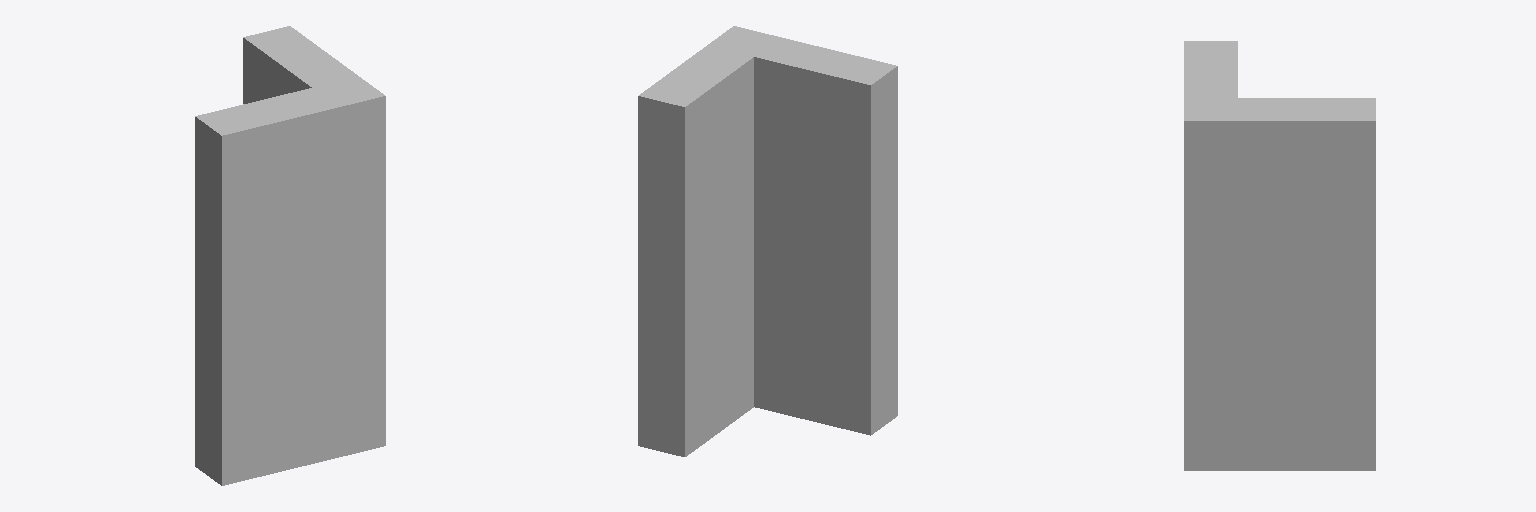
Rendered from wallCon270sOB.obj.
3 renders of one model, left to right at view 1: azimuth 30°, elevation 25°; view 2: azimuth 150°, elevation 25°; view 3: azimuth 270°, elevation 25°, orthographic.
Parts seen in each view (by area): view 1: WallConnect.270s_Cube.007; view 2: WallConnect.270s_Cube.007; view 3: WallConnect.270s_Cube.007.
Boxes of the visible parts, box(x1,y1,x2,y2) form: WallConnect.270s_Cube.007: box(195, 26, 385, 485); WallConnect.270s_Cube.007: box(638, 26, 897, 456); WallConnect.270s_Cube.007: box(1184, 41, 1375, 470).
Size of the model in its own units: 1.96 by 4.01 by 1.98.